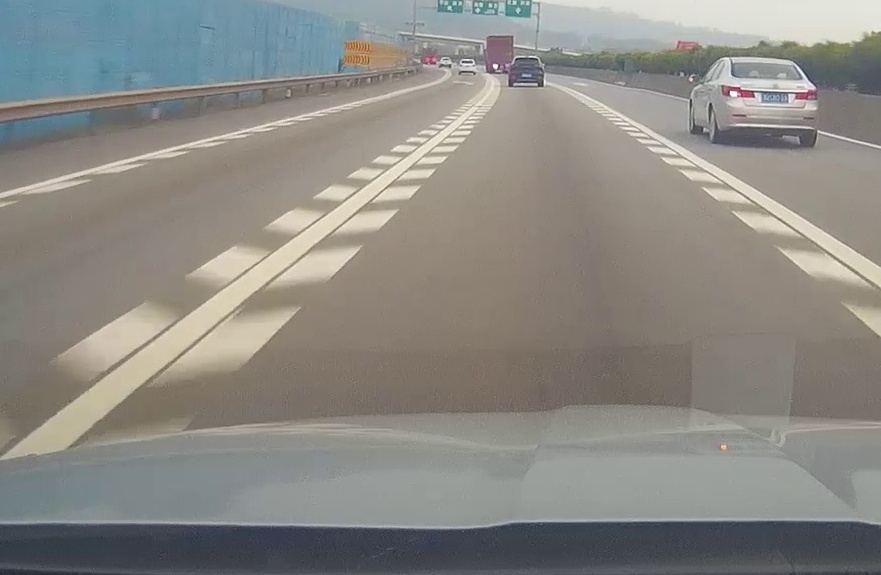L_light: (722, 85, 755, 98)
R_light: (795, 89, 817, 101)
T_light: (759, 63, 773, 65)
day-left: (719, 58, 818, 147)
